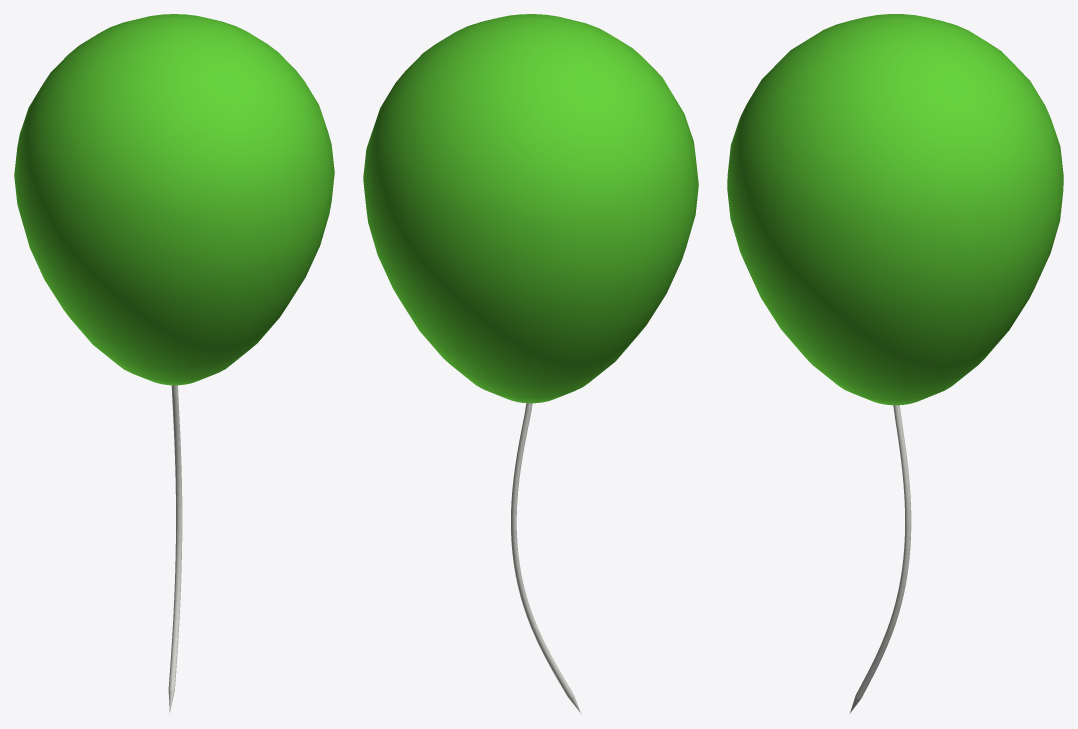
Rendered from BloonGrn.fbx.
3 renders of one model, left to right at view 1: azimuth 30°, elevation 25°; view 2: azimuth 150°, elevation 25°; view 3: azimuth 270°, elevation 25°, orthographic. The views are drawn at different scales.
Visible parts, largest first — view 1: bloon.002; view 2: bloon.002; view 3: bloon.002.
Boxes of the visible parts, x1=… form: bloon.002: x1=14, y1=14, x2=334, y2=714; bloon.002: x1=363, y1=14, x2=698, y2=714; bloon.002: x1=727, y1=14, x2=1063, y2=712.
Bounding box in the file's own units: 428 × 981 × 428.
